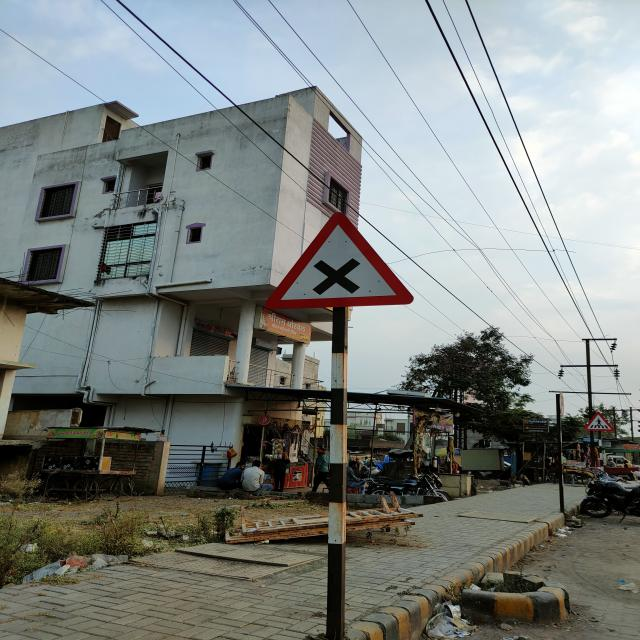cross_road: (264, 211, 416, 312)
